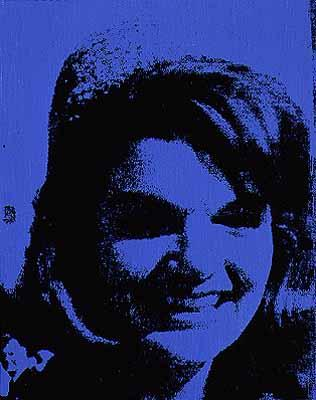person: (22, 35, 316, 396)
